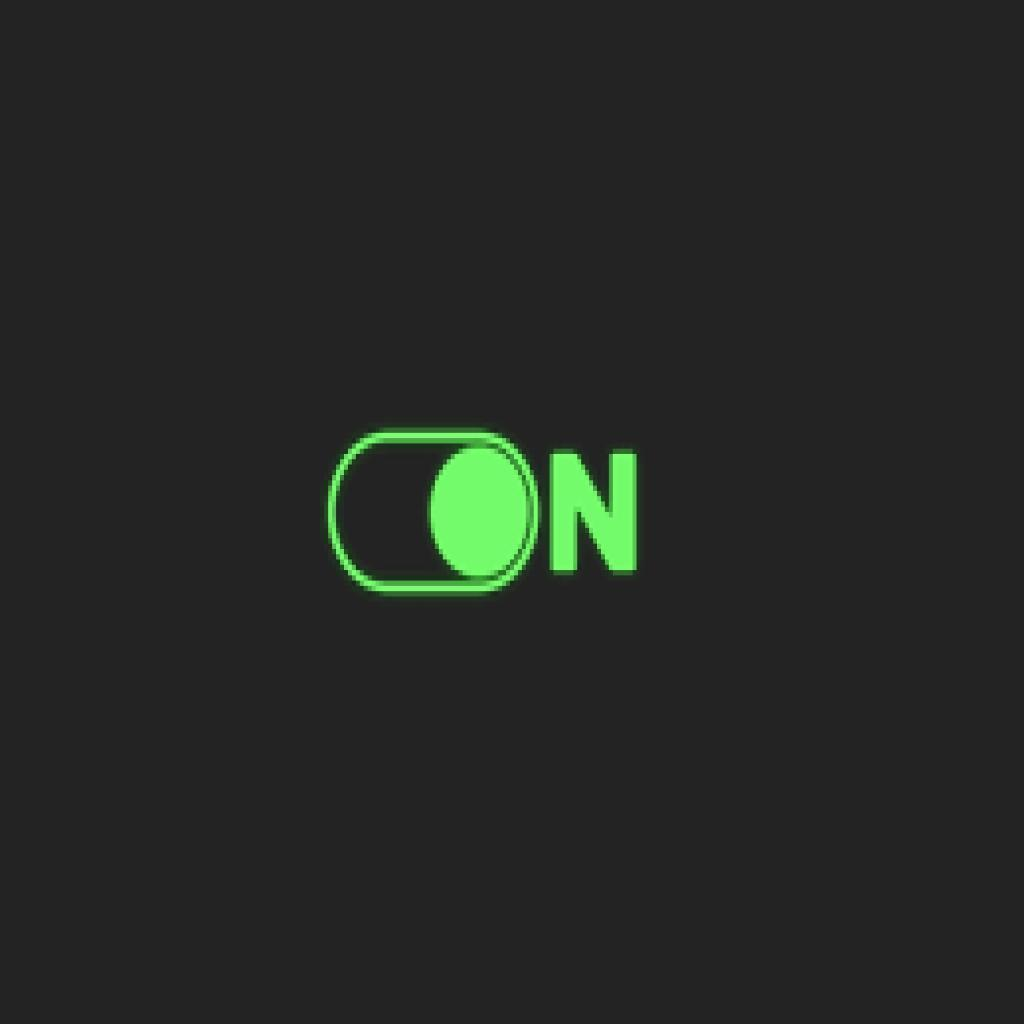switch: (329, 424, 539, 595)
